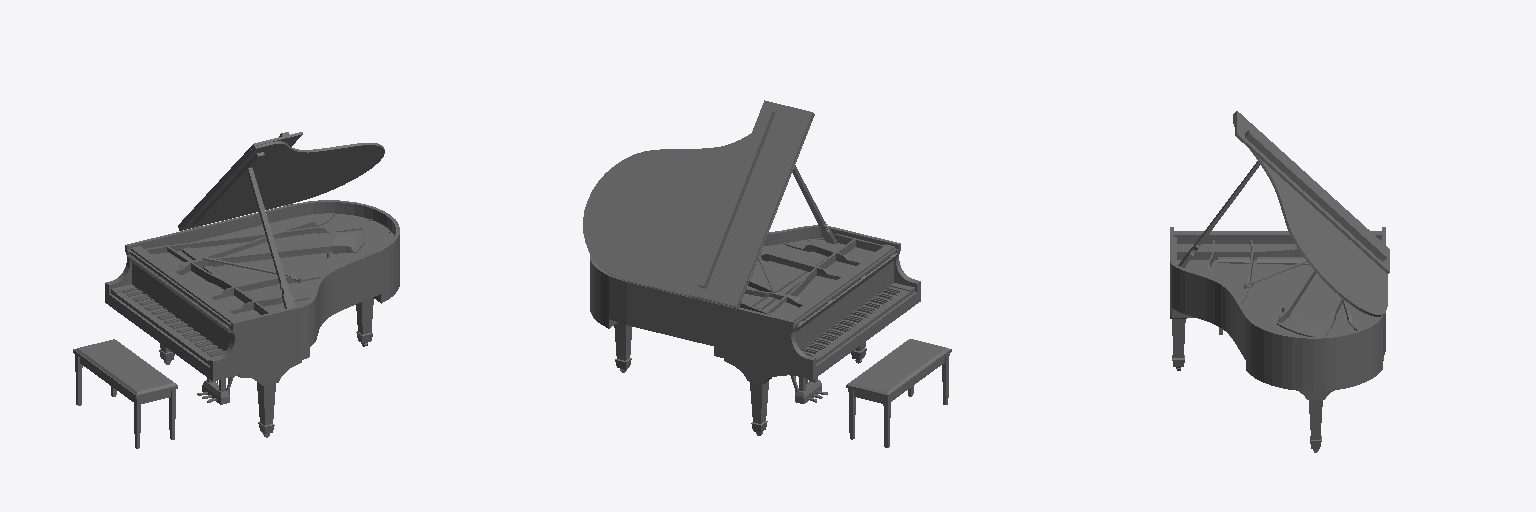
File: kiosque_4.obj
The picture shows the model from 3 angles: view 1: azimuth 30°, elevation 25°; view 2: azimuth 150°, elevation 25°; view 3: azimuth 270°, elevation 25°; orthographic projection.
Size of the model in its own units: 2.5 by 2.11 by 1.57.